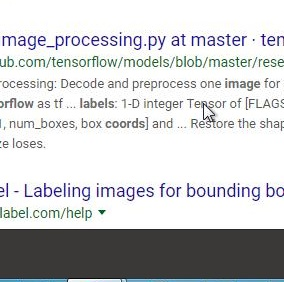cursor: (201, 100, 215, 123)
